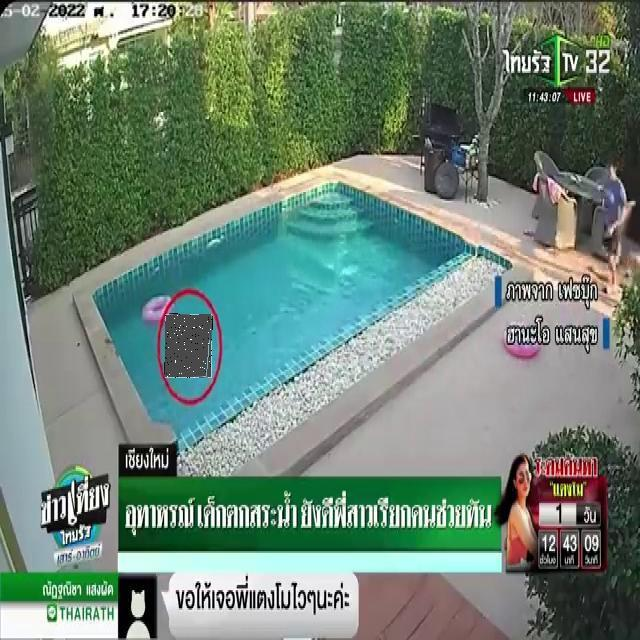Out of Water: (165, 314, 212, 378)
